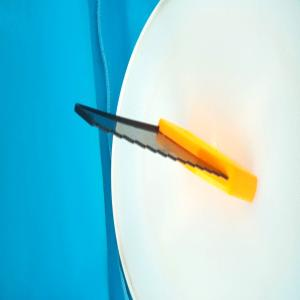serrote: (73, 100, 260, 205)
